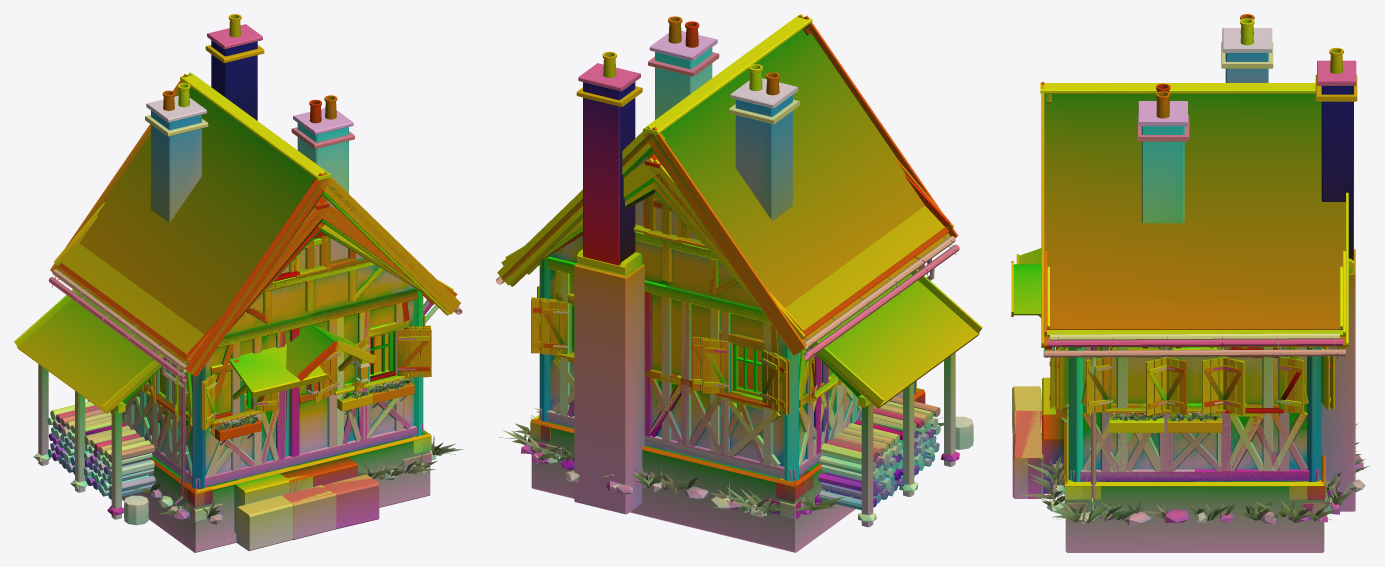
The model's file is houses.glb.
The picture shows the model from 3 angles, left to right: view 1: azimuth 30°, elevation 25°; view 2: azimuth 150°, elevation 25°; view 3: azimuth 270°, elevation 25°; orthographic projection. The views are drawn at different scales.
Parts seen in each view (by area): view 1: B_wood, A_stone, C_timber, C_wood, A_timber, B_stone, B_timber, A_wood, A_plaster, B_plaster, C_stone, C_plaster (+9 smaller); view 2: B_wood, B_stone, A_stone, C_timber, C_wood, A_timber, B_timber, A_plaster, C_stone, A_wood, B_plaster, B_paint (+9 smaller); view 3: B_wood, A_stone, B_stone, A_timber, C_wood, C_stone, A_plaster, B_timber, B_paint, A_wood, C_timber, B_iron (+9 smaller).
Part boxes in pixels (box(x1,y1,x2,y2)): B_wood: box(50, 72, 460, 455); A_stone: box(122, 95, 431, 552); C_timber: box(38, 229, 423, 525); C_wood: box(14, 215, 453, 413); A_timber: box(87, 219, 424, 488); B_stone: box(149, 24, 431, 550); B_timber: box(124, 178, 449, 488); A_wood: box(54, 200, 457, 456); A_plaster: box(126, 238, 413, 473); B_plaster: box(134, 200, 414, 472); C_stone: box(33, 108, 436, 540); C_plaster: box(160, 238, 413, 472); B_wood: box(497, 14, 958, 395); B_stone: box(521, 15, 925, 518); A_stone: box(530, 78, 924, 552); C_timber: box(539, 189, 973, 527); C_wood: box(505, 174, 982, 408); A_timber: box(538, 178, 915, 481); B_timber: box(510, 26, 902, 480); A_plaster: box(549, 200, 875, 466); C_stone: box(530, 30, 959, 521); A_wood: box(501, 158, 953, 408); B_plaster: box(550, 157, 848, 465); B_paint: box(537, 285, 816, 411); B_wood: box(1016, 82, 1348, 432); A_stone: box(1012, 28, 1339, 552); B_stone: box(1012, 60, 1365, 522); A_timber: box(1038, 315, 1321, 481); C_wood: box(1047, 266, 1342, 329); C_stone: box(1012, 101, 1339, 524); A_plaster: box(1083, 347, 1306, 469); B_timber: box(1044, 94, 1345, 480); B_paint: box(1049, 347, 1328, 414); A_wood: box(1011, 251, 1345, 432); C_timber: box(1073, 347, 1316, 481); B_iron: box(1044, 346, 1345, 510).
Size of the model in its own units: 7.56 by 8.77 by 6.2.
